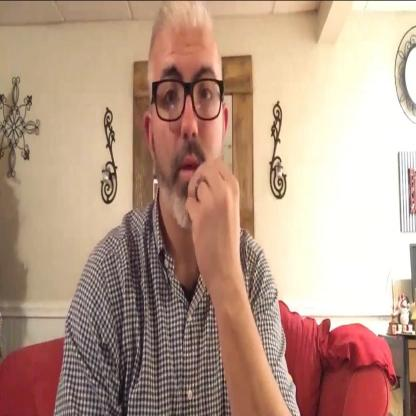Food: (146, 0, 248, 317)
